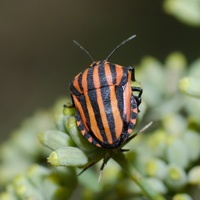insect: (48, 35, 152, 175)
